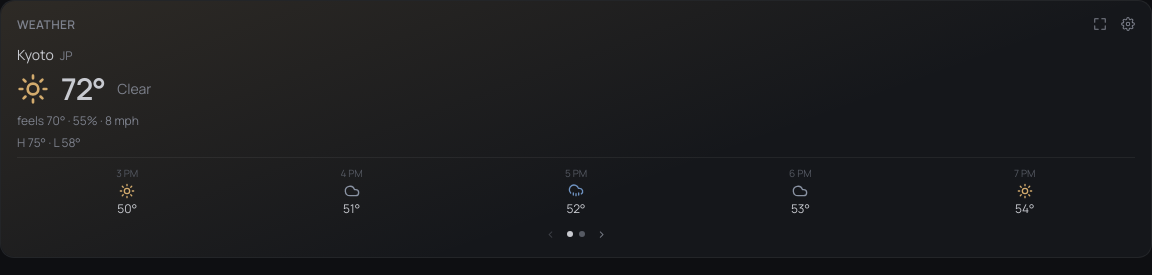
WeatherCard › pages between locations, fetching each once and serving revisits from cache
Expected: the text "72°" is shown, [61,71,105,107]
Step 1. Click the button named "Next location" → x=601, y=234, box [593,227,610,241]
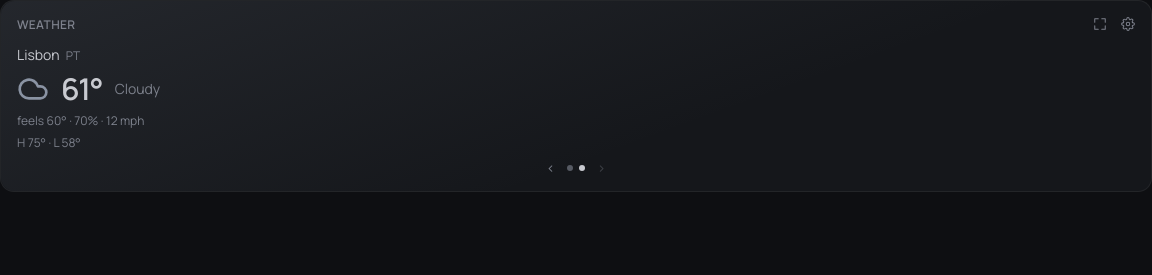
Expected: the text "61°" is shown, [61,71,103,107]
Note: Back and forward again — both revisits come from the component cache.
Step 2. Click the button named "Previous location" → x=551, y=168, box [542,161,559,175]
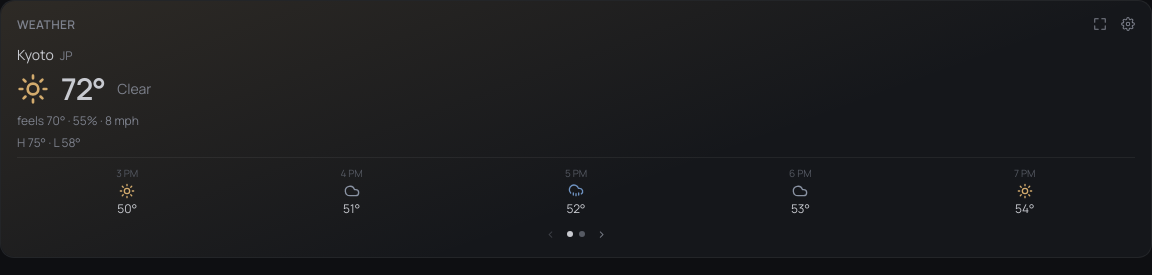
Expected: the text "72°" is shown, [61,71,105,107]
Step 3. Click the button named "Next location" → x=601, y=234, box [593,227,610,241]
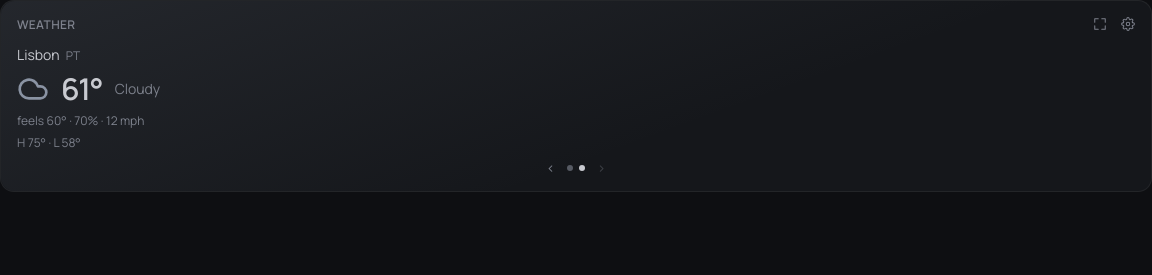
Expected: the text "61°" is shown, [61,71,103,107]
Note: Arrow keys page the focused card body too.
Step 4. Press ArrowLeft in the element named "Weather reading", box [17,45,610,175]
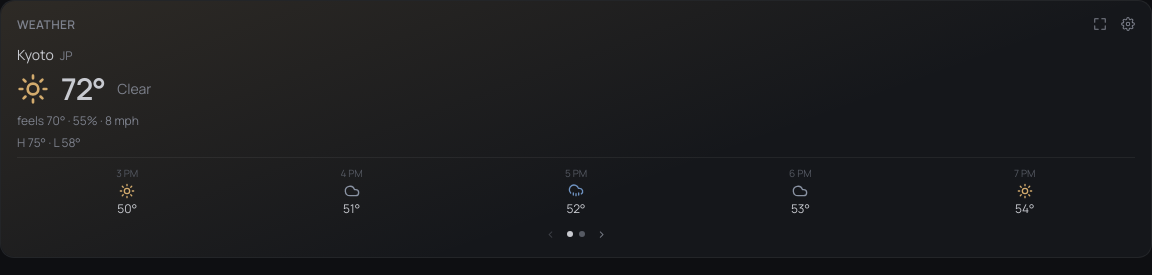
Expected: the text "72°" is shown, [61,71,105,107]
Step 5. Press ArrowRight in the element named "Weather reading"
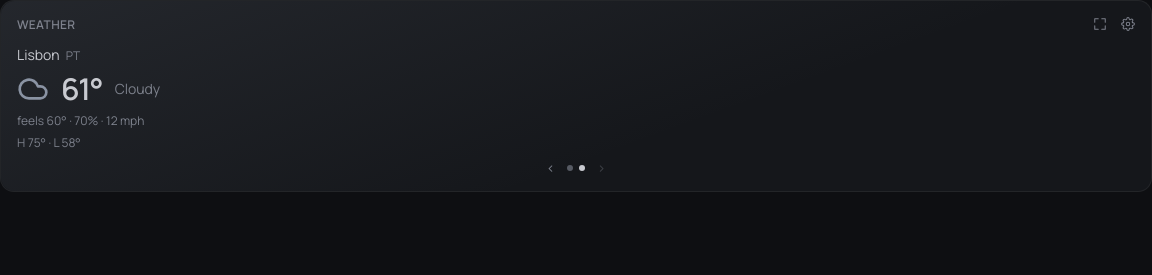
Expected: the text "61°" is shown, [61,71,103,107]
